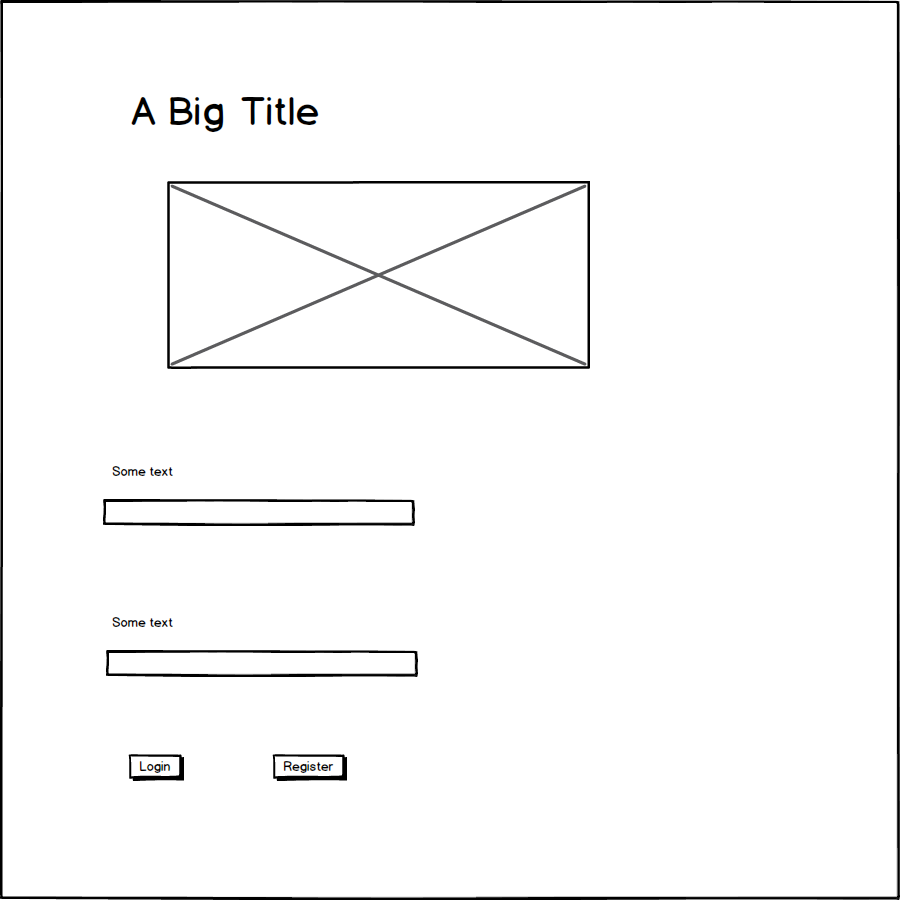button: (267, 747, 353, 789), (123, 748, 196, 789)
input: (101, 644, 426, 682), (100, 495, 422, 533)
label: (108, 452, 189, 489), (105, 614, 187, 634)
